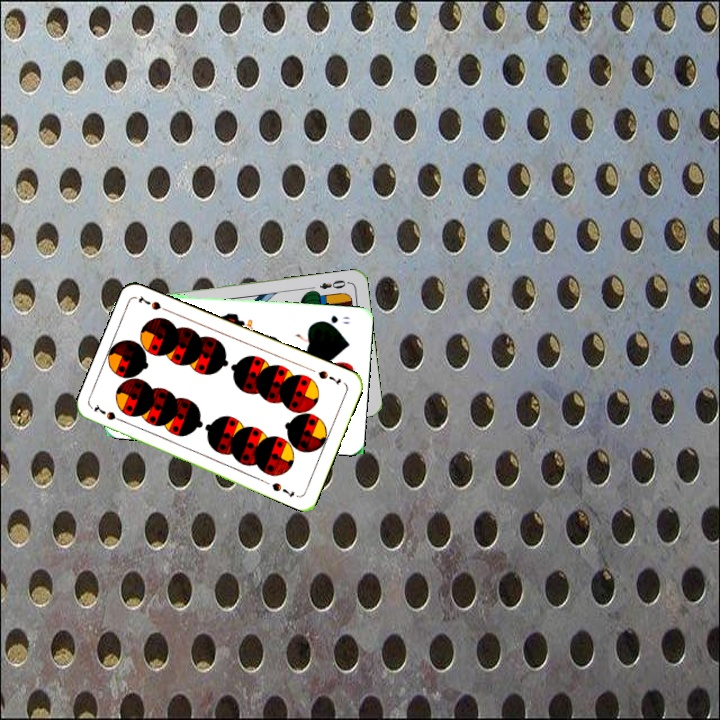EO: (316, 276, 351, 292)
GO: (316, 311, 352, 328)
S7: (90, 401, 128, 426), (314, 366, 344, 387)
